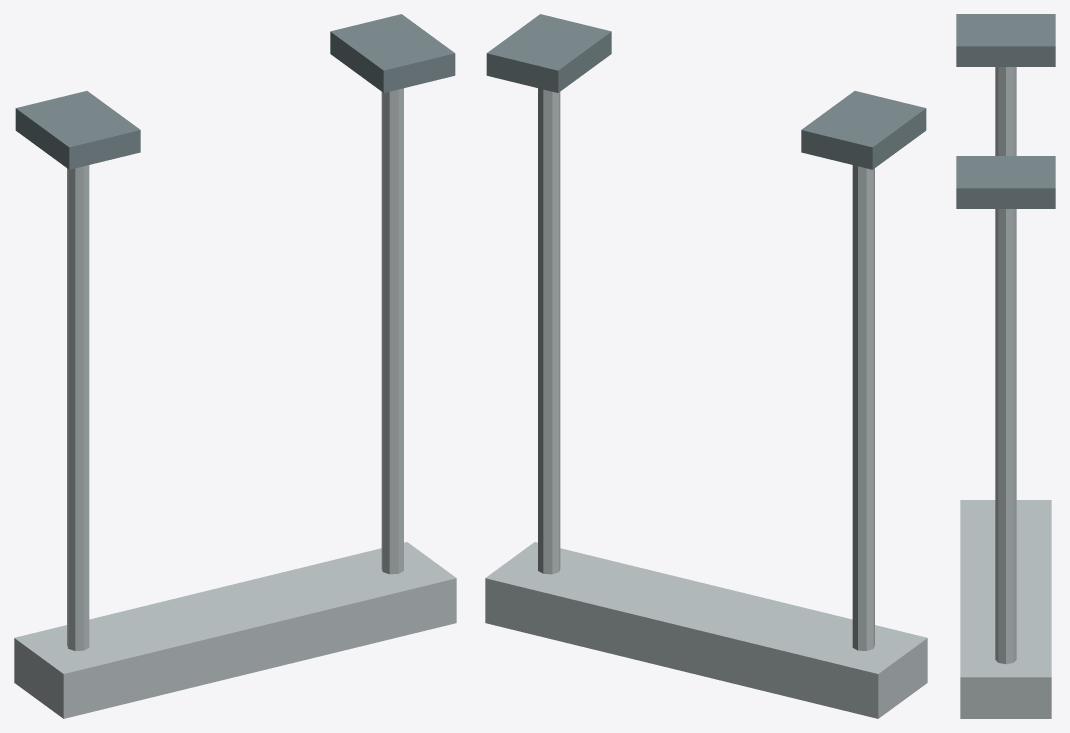
File: pipe_hanger.glb
3 renders of one model, left to right at view 1: azimuth 30°, elevation 25°; view 2: azimuth 150°, elevation 25°; view 3: azimuth 270°, elevation 25°, orthographic. The views are drawn at different scales.
Visible parts, largest first — view 1: pipe_hanger_SPOT_structure_galvanized.002, pipe_hanger_SPOT_structure_coated_steel.002; view 2: pipe_hanger_SPOT_structure_galvanized.002, pipe_hanger_SPOT_structure_coated_steel.002; view 3: pipe_hanger_SPOT_structure_galvanized.002, pipe_hanger_SPOT_structure_coated_steel.002.
Boxes of the visible parts, box(x1,y1,x2,y2) form: pipe_hanger_SPOT_structure_galvanized.002: box(14, 88, 456, 718); pipe_hanger_SPOT_structure_coated_steel.002: box(15, 14, 455, 169); pipe_hanger_SPOT_structure_galvanized.002: box(485, 88, 927, 718); pipe_hanger_SPOT_structure_coated_steel.002: box(486, 14, 926, 169); pipe_hanger_SPOT_structure_galvanized.002: box(960, 67, 1051, 718); pipe_hanger_SPOT_structure_coated_steel.002: box(956, 14, 1055, 208).
Size of the model in its own units: 0.55 by 0.765 by 0.13.
